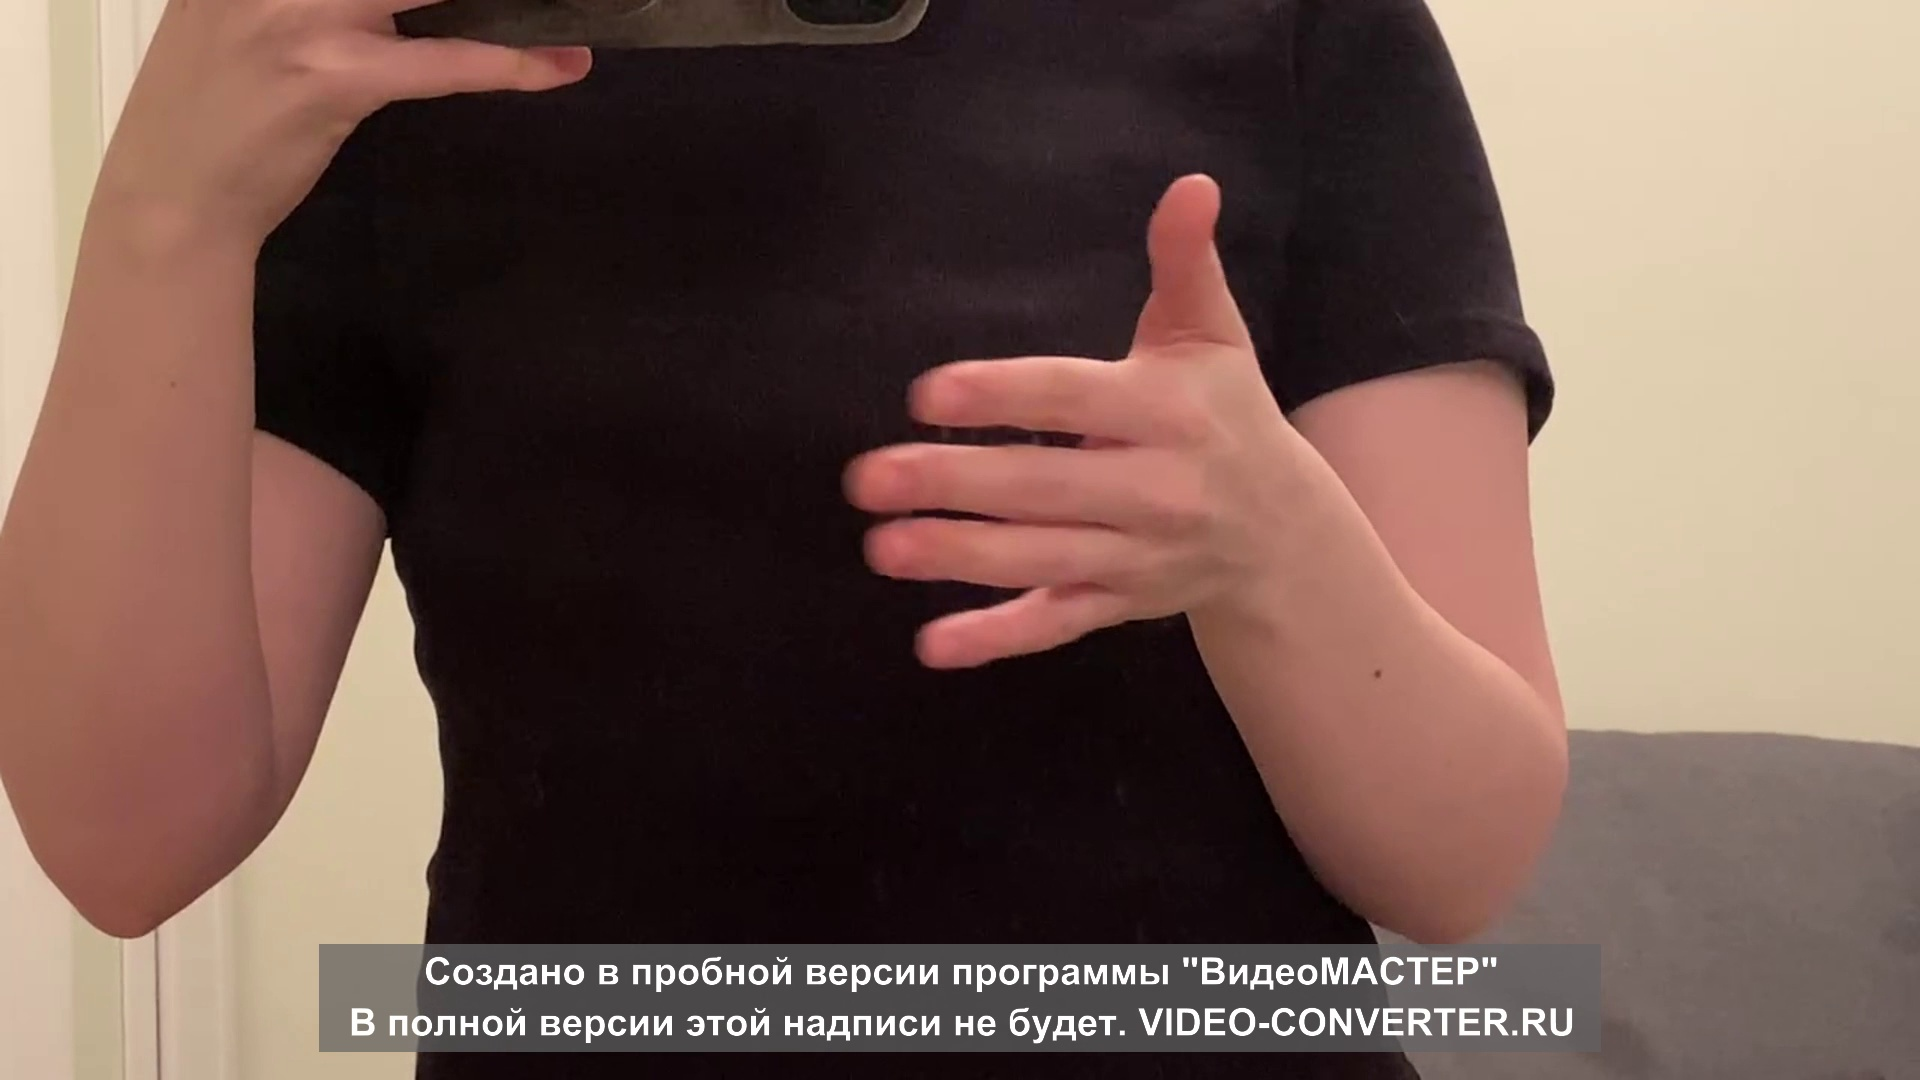Кисть: (839, 173, 1255, 666)
